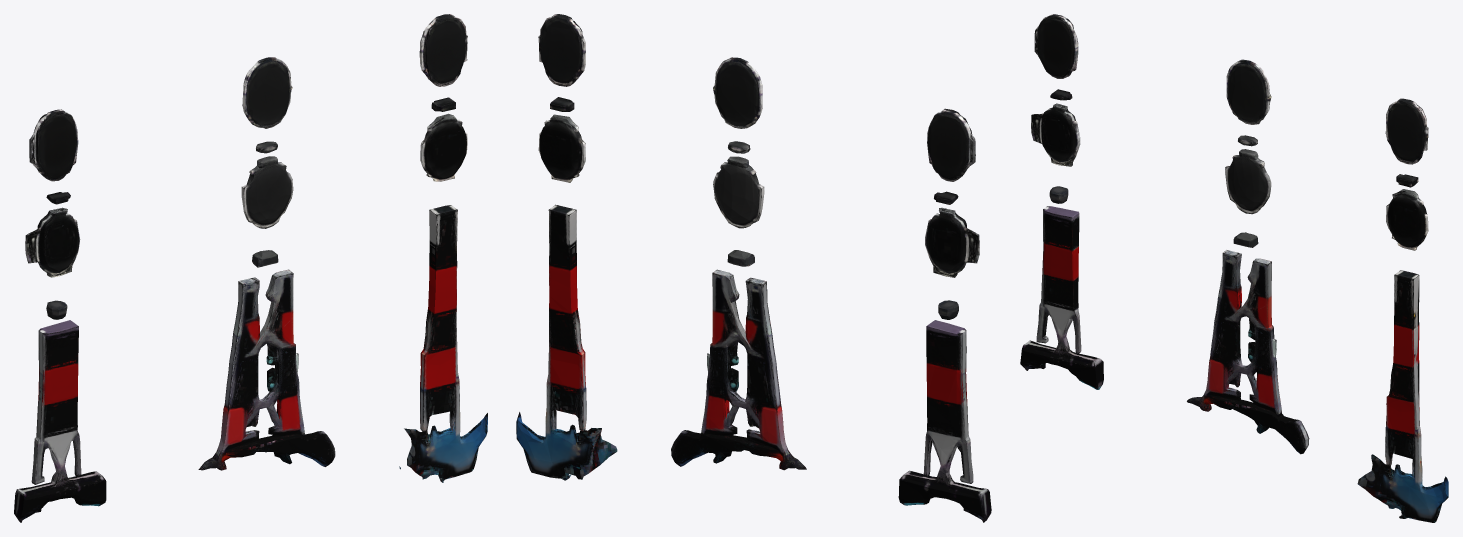
Rendered from danger_mark45.glb.
3 renders of one model, left to right at view 1: azimuth 30°, elevation 25°; view 2: azimuth 150°, elevation 25°; view 3: azimuth 330°, elevation 25°, orthographic. The views are drawn at different scales.
Parts seen in each view (by area): view 1: world; view 2: world; view 3: world.
Part boxes in pixels (box(x1,y1,x2,y2)): world: box(14, 14, 487, 522); world: box(516, 14, 991, 522); world: box(1020, 14, 1448, 522).
Size of the model in its own units: 0.9984 by 0.9446 by 0.0597.
Materials: 1 (1 with a texture image).
